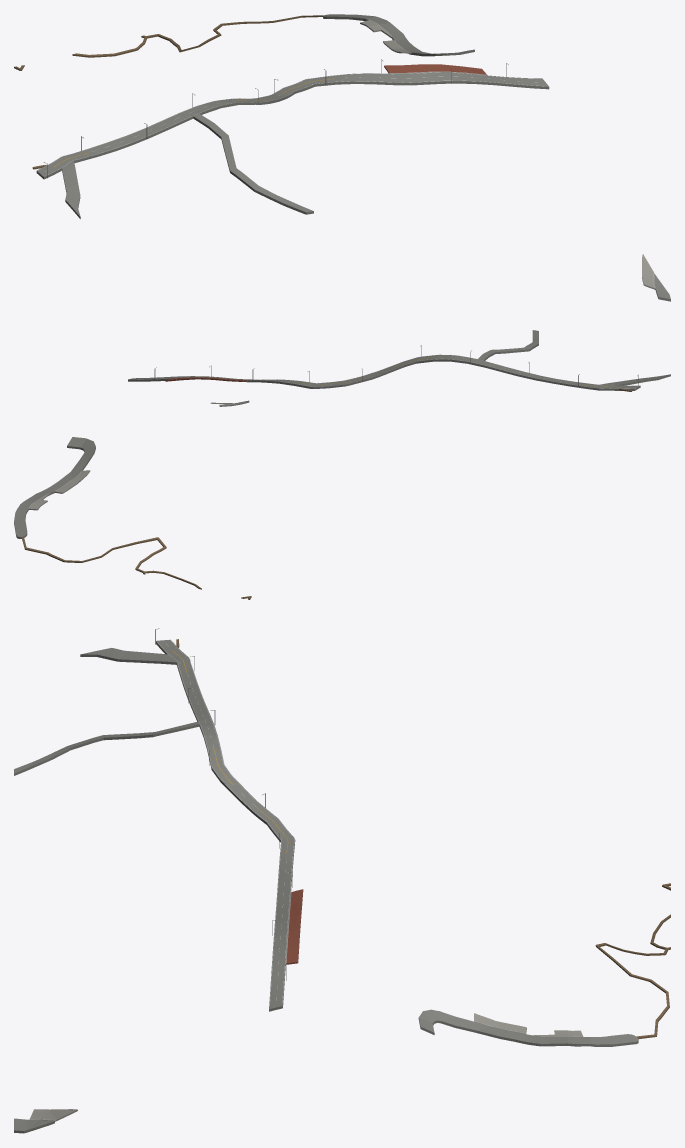
The picture shows the model from 3 angles, top to bottom: view 1: azimuth 30°, elevation 25°; view 2: azimuth 150°, elevation 25°; view 3: azimuth 270°, elevation 25°; orthographic projection. The views are drawn at different scales.
Size of the model in its own units: 294 by 114 by 292.
